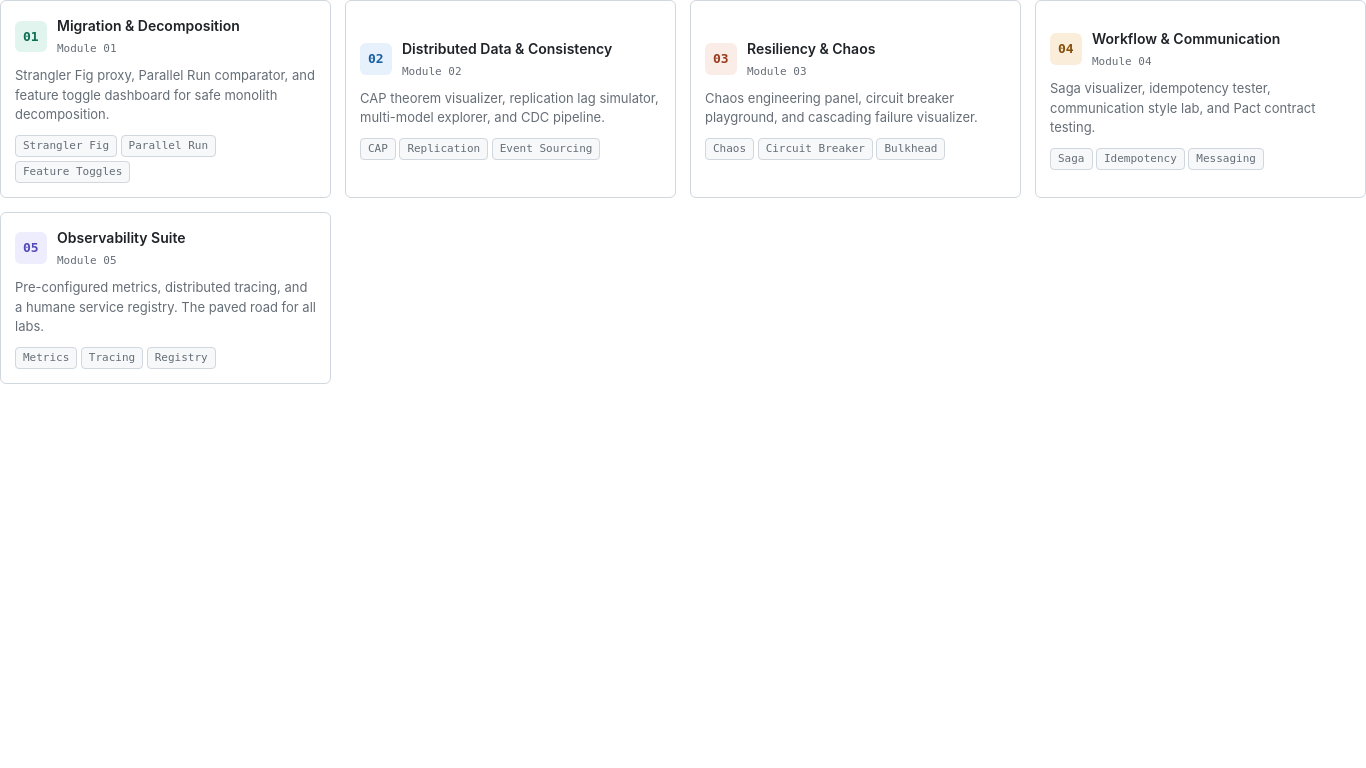
labs prototype flow › supports keyboard tab switching while preserving inactive experiment definitions
Click the button "Observability Suite" at (166,298), box [0,212,331,384]
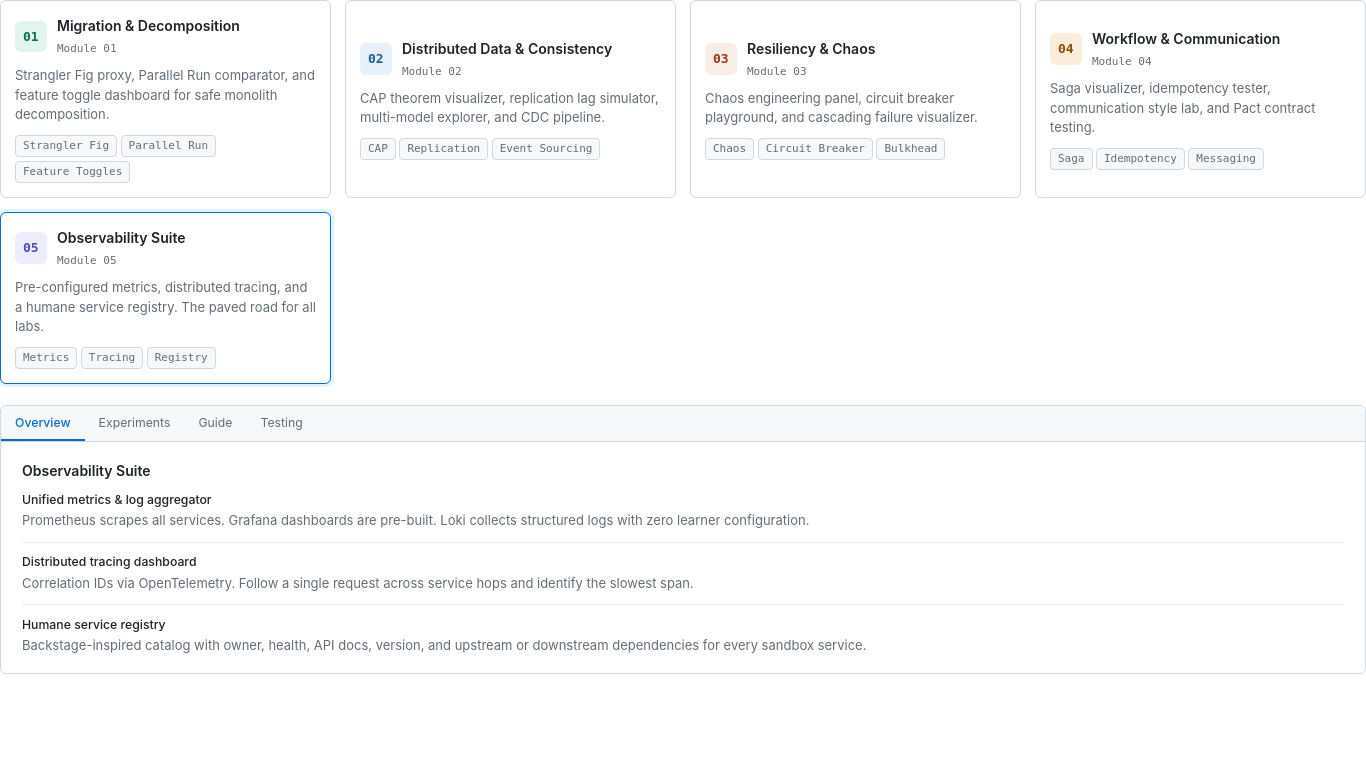
Press ArrowRight in the tab "Overview", box [1,406,85,441]
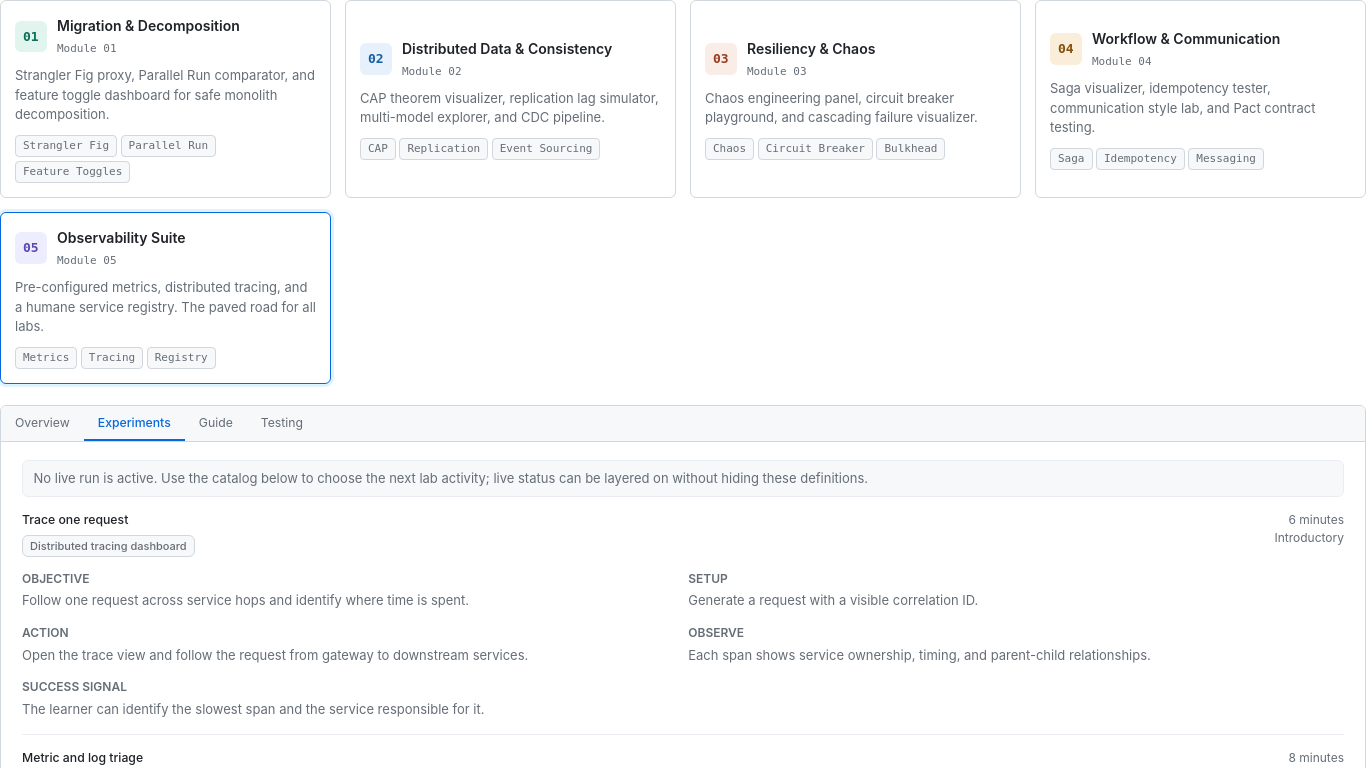
Check: the panel named "Experiments" shows "No live run is active", box [34,470,868,486]
Check: the panel named "Experiments" shows "Trace one request", box [22,512,128,526]
Press ArrowRight in the tab "Experiments", box [84,406,185,441]
(page scrolled)
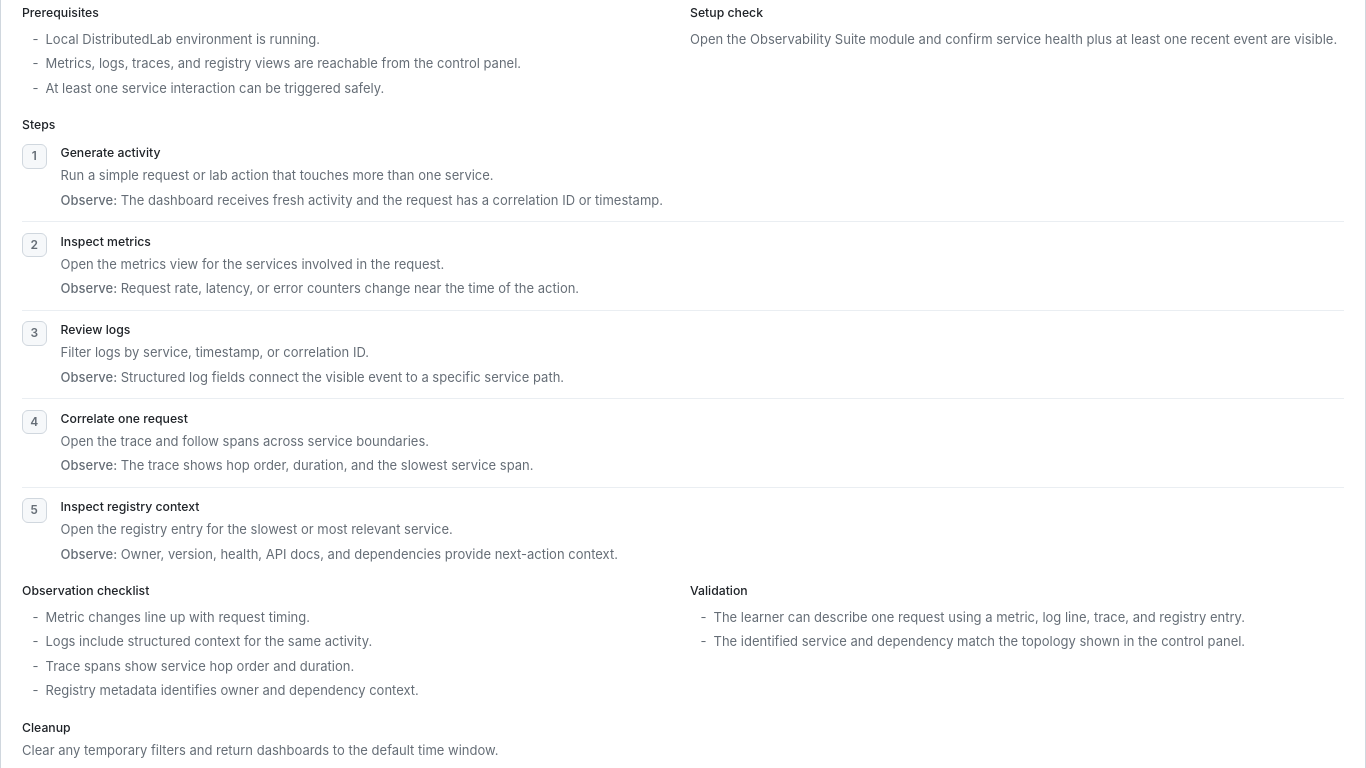
Check: the heading "Steps" is shown, box [22,117,55,132]
